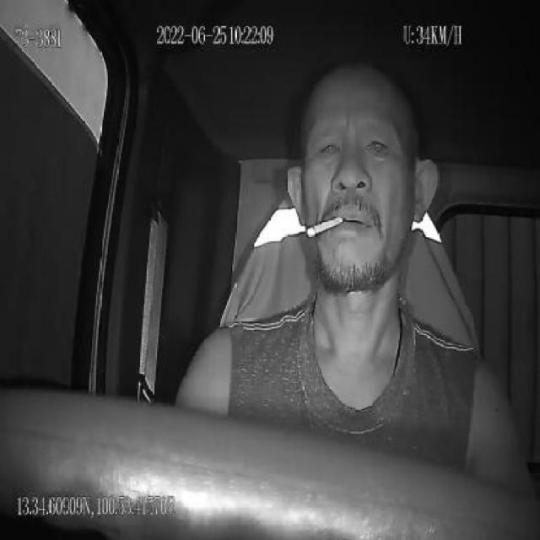smoking: (306, 215, 343, 238)
